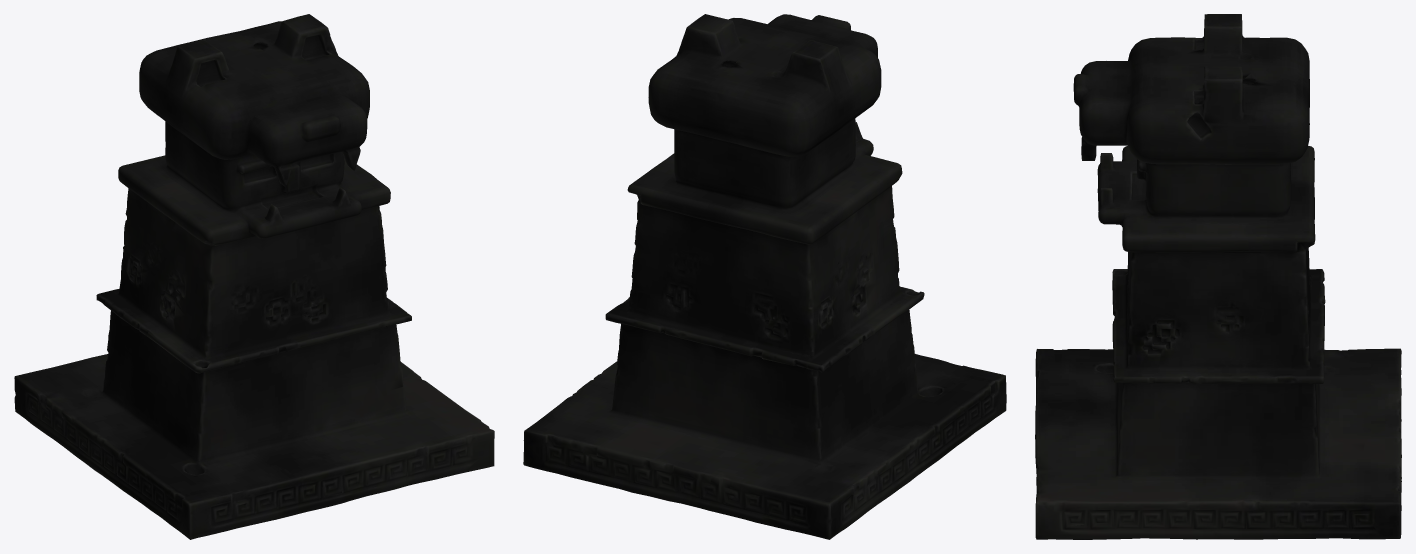
The model's file is knight-basalt.glb.
The picture shows the model from 3 angles, left to right: view 1: azimuth 30°, elevation 25°; view 2: azimuth 150°, elevation 25°; view 3: azimuth 270°, elevation 25°; orthographic projection. The views are drawn at different scales.
Visible parts, largest first — view 1: knight; view 2: knight; view 3: knight.
Part boxes in pixels (x1=…): knight: x1=14, y1=14, x2=494, y2=539; knight: x1=523, y1=14, x2=1006, y2=539; knight: x1=1035, y1=14, x2=1401, y2=539.
Size of the model in its own units: 0.7629 by 0.9575 by 0.7631.
Materials: 1 (1 with a texture image).
